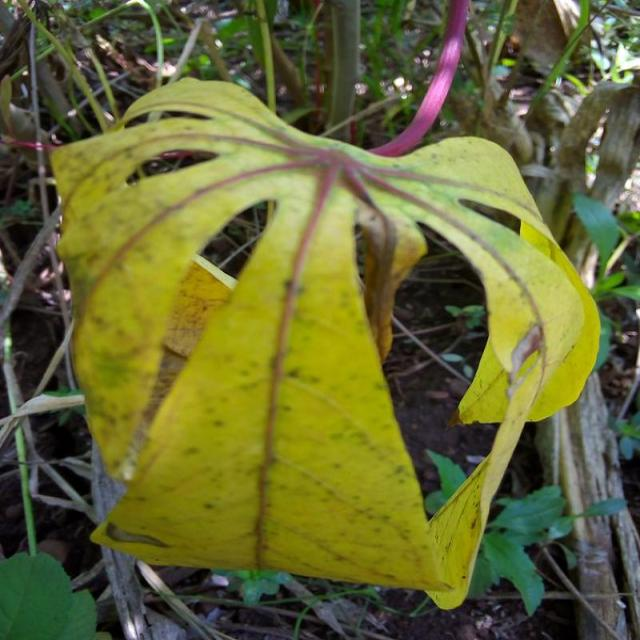cassava leaf: (48, 74, 601, 610)
